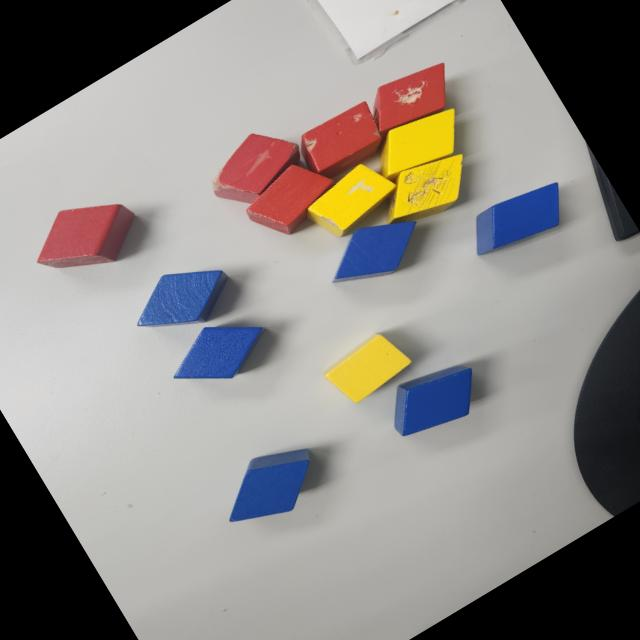blue: (207, 430, 333, 542), (121, 245, 244, 354), (157, 298, 280, 406), (374, 345, 496, 452), (314, 199, 436, 303), (459, 168, 578, 270)
broken: (365, 138, 484, 240), (198, 115, 314, 218), (358, 51, 466, 146), (298, 152, 406, 247), (292, 95, 396, 188)
red: (20, 178, 152, 298), (235, 150, 347, 250)
yellow: (362, 95, 476, 194), (320, 324, 416, 410)
